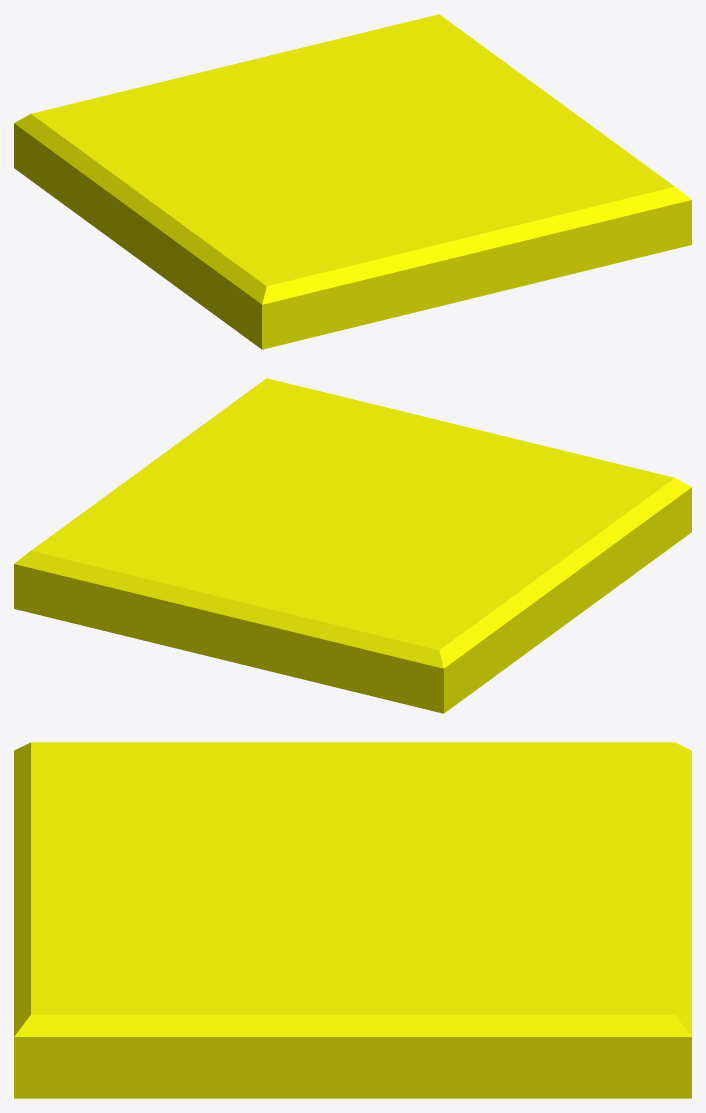
The model's file is kaykit-floor-prototype.glb.
3 views of the same model, one above another, from view 1: azimuth 30°, elevation 25°; view 2: azimuth 150°, elevation 25°; view 3: azimuth 270°, elevation 25° (orthographic). The views are drawn at different scales.
Visible parts, largest first — view 1: Floor_Prototype; view 2: Floor_Prototype; view 3: Floor_Prototype.
Boxes of the visible parts, x1,y1,x2,y2 form: Floor_Prototype: (14,14,691,349); Floor_Prototype: (14,378,691,713); Floor_Prototype: (14,742,691,1098).
Bounding box in the file's own units: 4 × 0.5 × 4.
